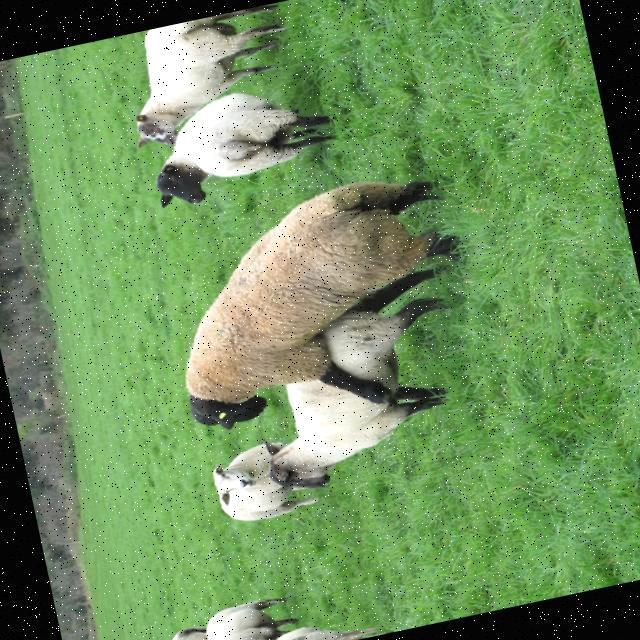sheep: (184, 182, 459, 429), (265, 269, 445, 489), (134, 5, 284, 148), (154, 94, 333, 208), (211, 445, 315, 522), (205, 598, 296, 640), (275, 628, 374, 640), (172, 627, 207, 640)
